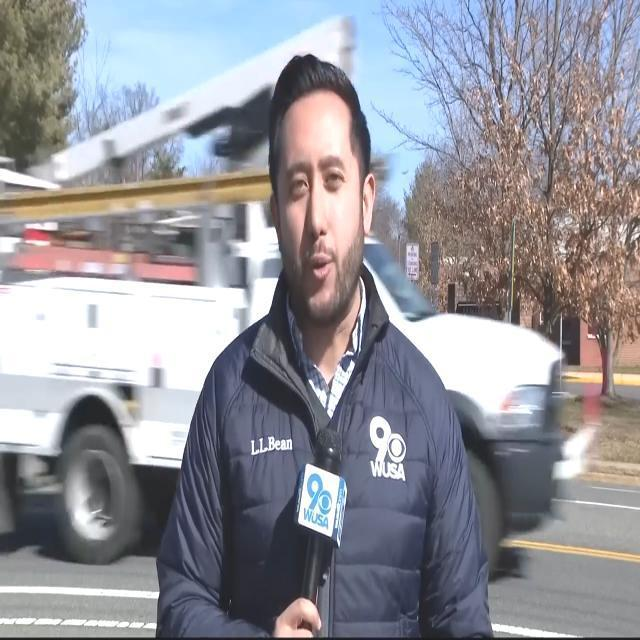non-fight: (219, 11, 458, 640)
